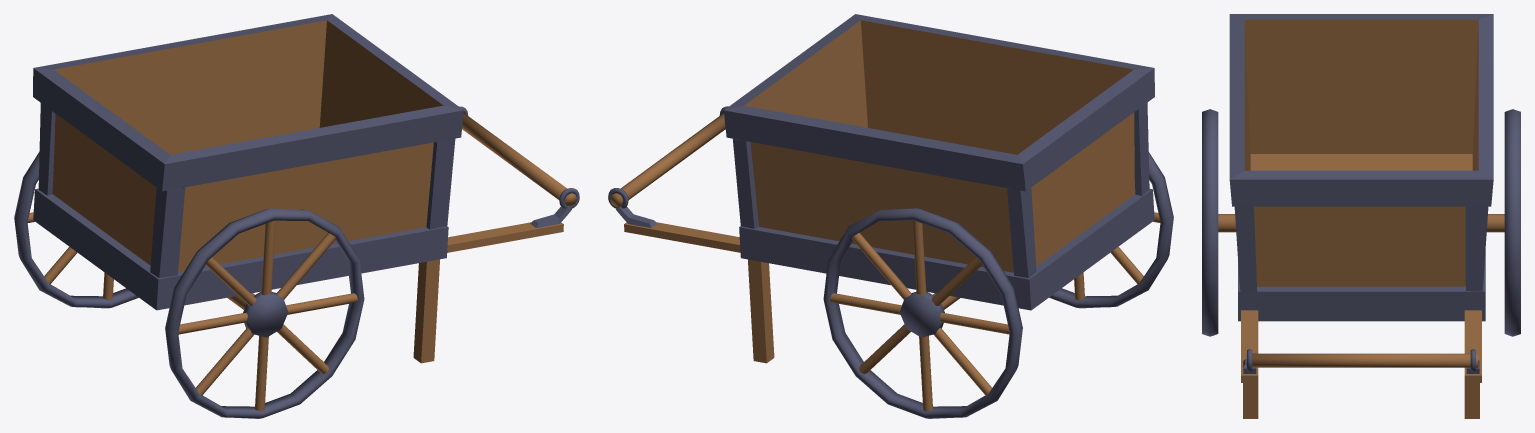
Rendered from OldWheelbarrow.fbx.
The picture shows the model from 3 angles, left to right: view 1: azimuth 30°, elevation 25°; view 2: azimuth 150°, elevation 25°; view 3: azimuth 270°, elevation 25°; orthographic projection.
Visible parts, largest first — view 1: OldWheelbarrow; view 2: OldWheelbarrow; view 3: OldWheelbarrow.
Part boxes in pixels (bbox=[...]): OldWheelbarrow: bbox=[14, 14, 579, 418]; OldWheelbarrow: bbox=[608, 14, 1173, 418]; OldWheelbarrow: bbox=[1202, 14, 1520, 418].
Bounding box in the file's own units: 252 × 149 × 160.
